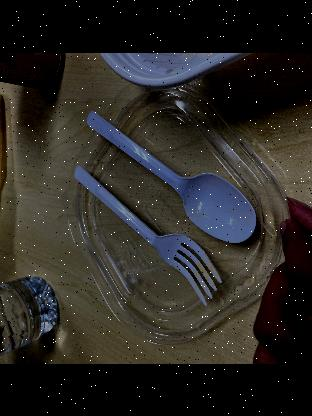Others: (86, 104, 258, 248), (70, 166, 222, 310)
